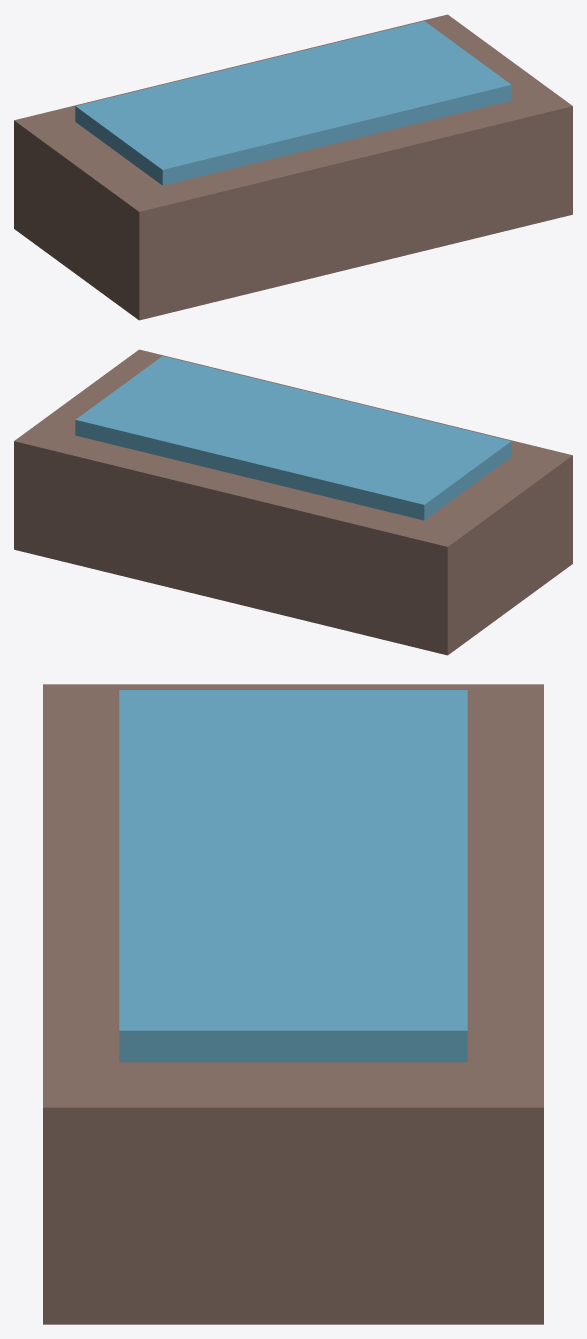
File: water_trough.glb
3 renders of one model, top to bottom at view 1: azimuth 30°, elevation 25°; view 2: azimuth 150°, elevation 25°; view 3: azimuth 270°, elevation 25°, orthographic. The views are drawn at different scales.
Parts seen in each view (by area): view 1: wood_dark, water; view 2: wood_dark, water; view 3: wood_dark, water.
Part boxes in pixels (x1,y1,x2,y2): wood_dark: (14, 14, 572, 320); water: (75, 21, 511, 185); wood_dark: (14, 349, 572, 655); water: (75, 356, 511, 520); wood_dark: (43, 684, 543, 1324); water: (119, 690, 467, 1062).
Size of the model in its own units: 2.3 by 0.64 by 1.15.
